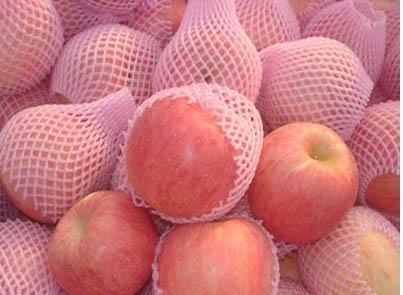apple: (257, 122, 371, 243), (125, 94, 234, 216), (46, 189, 160, 293), (164, 216, 271, 293)
